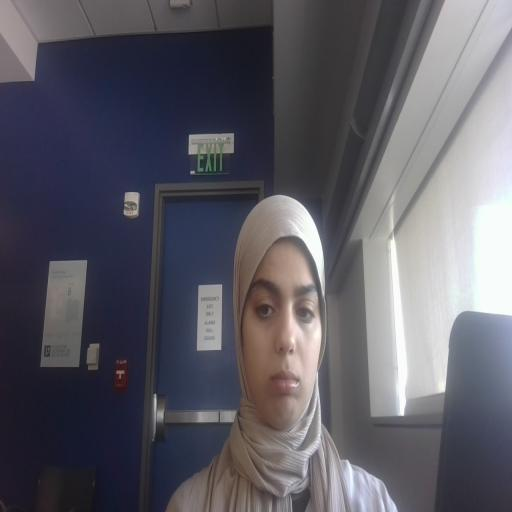phone: (447, 308, 512, 512)
